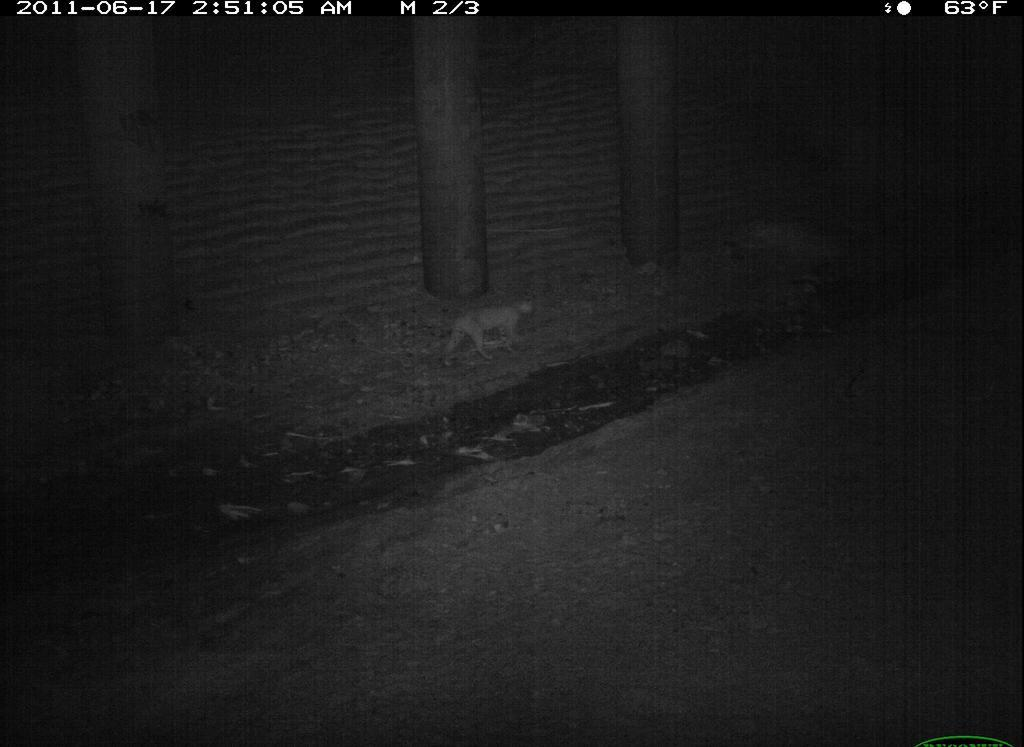bobcat: (869, 580, 1024, 742)
